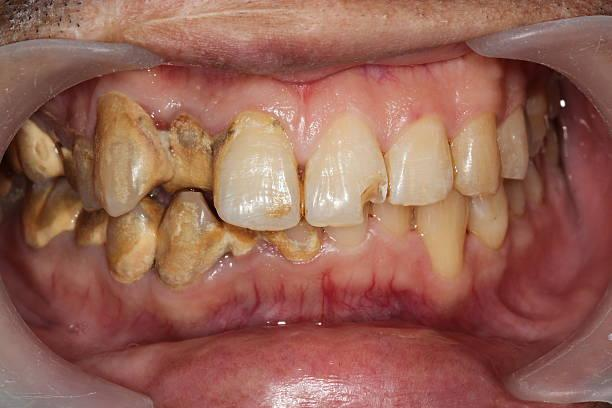Discoloration: (90, 90, 175, 213), (143, 180, 229, 284), (147, 99, 222, 195), (14, 173, 94, 250), (103, 194, 165, 276), (8, 118, 83, 179), (67, 201, 131, 262), (262, 202, 326, 261)
